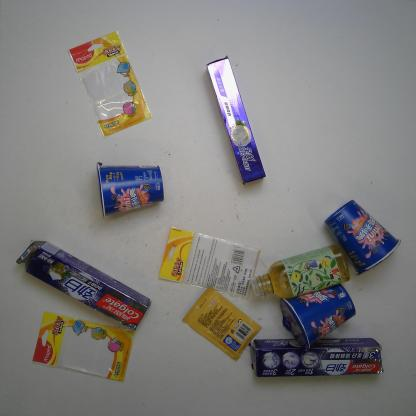Dessert: (318, 196, 400, 278), (276, 282, 358, 354), (92, 160, 165, 221)
Drink: (243, 244, 351, 301)
Personal Hygiene: (14, 238, 150, 330), (204, 56, 270, 195), (248, 335, 384, 379)
Seasoner: (180, 283, 263, 363)
Stationery: (66, 29, 153, 140), (30, 310, 138, 384), (156, 221, 259, 296)
